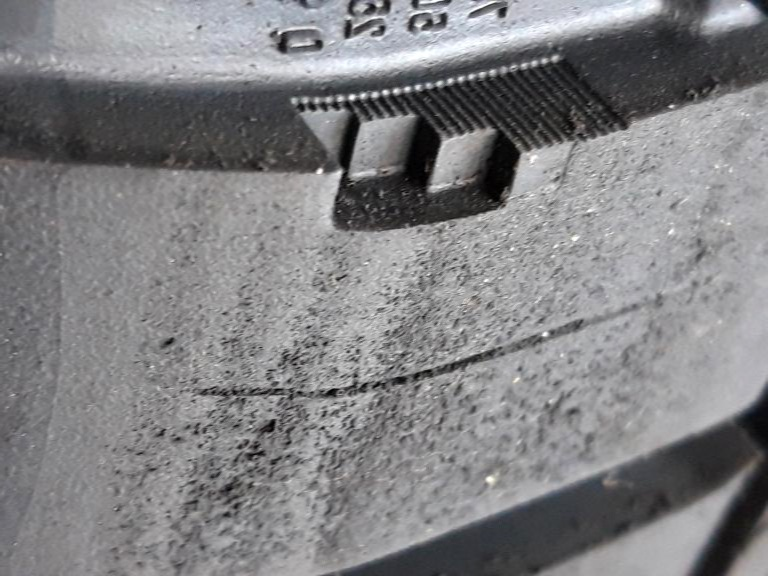temoin:75: (277, 63, 585, 252)
